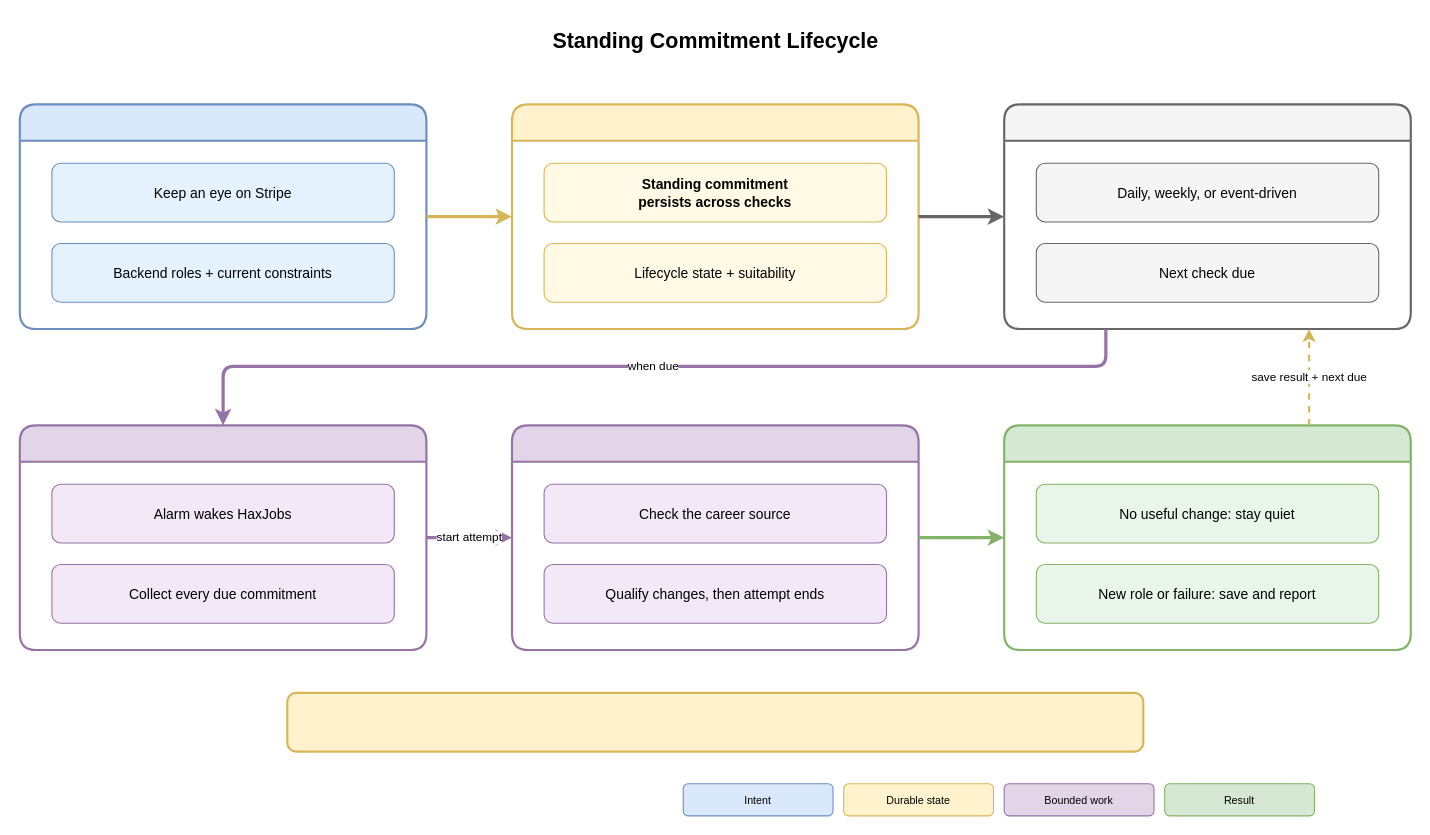
Some shapes in this 1430 by 835 pixel diagram are drawn without their labels. The shapes that lost their labels are listed below. From the top down, each one's box as (x1, y1, x2, y2) in pixels, then its label:
(18, 103, 427, 330): 1. User Intent
(510, 103, 919, 330): 2. Durable Promise
(1003, 103, 1411, 330): 3. Cadence
(18, 424, 427, 651): 4. Wake-up
(510, 424, 919, 651): 5. One Check Attempt
(1003, 424, 1411, 651): 6. Result and Update
(286, 691, 1144, 752): Continuous = remember to return, not keep a process alive
